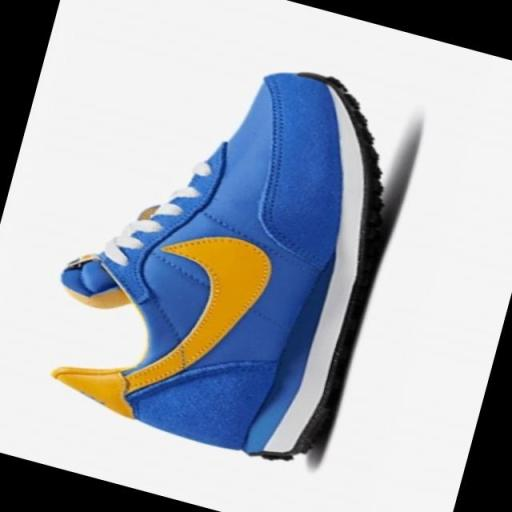Nike: (106, 210, 292, 433)
